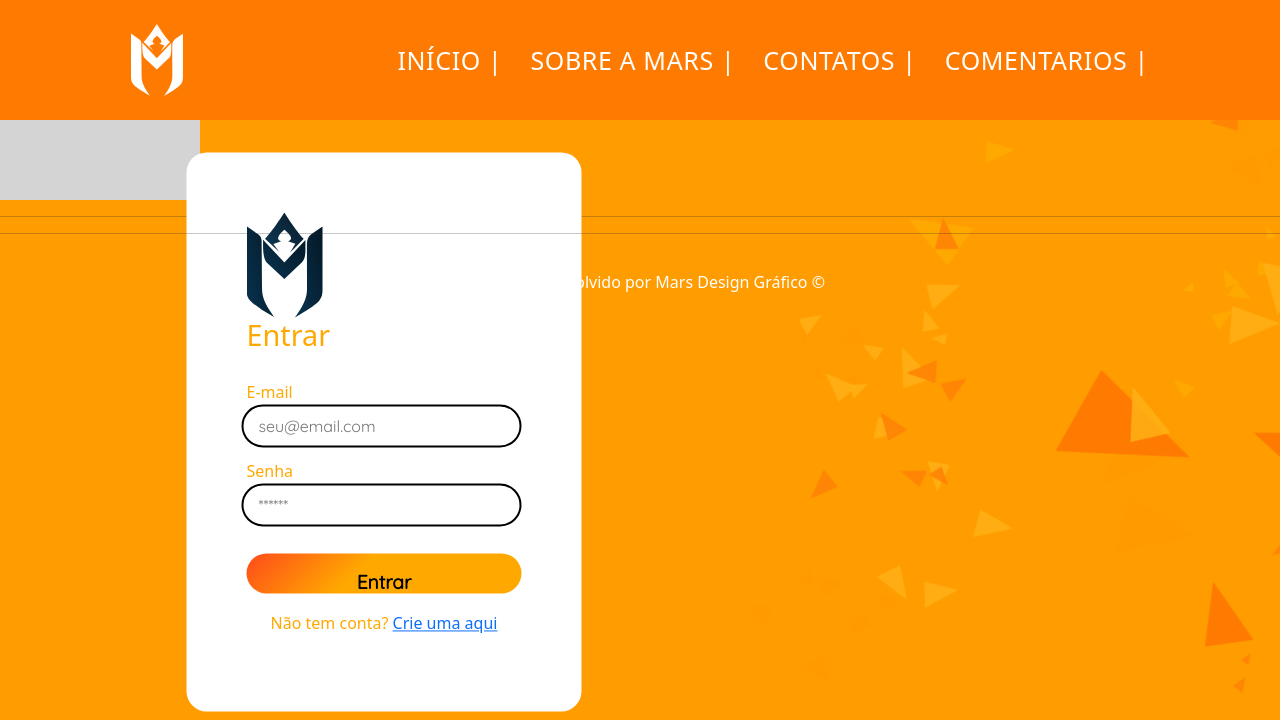
Scenario: Teste 1 — Login (Particionamento de Equivalência) › Classe inválida: login com senha errada exibe mensagem de erro
Type "admin@gmail.com" into the field with id "email" at (366, 427), box [259,415,472,439]
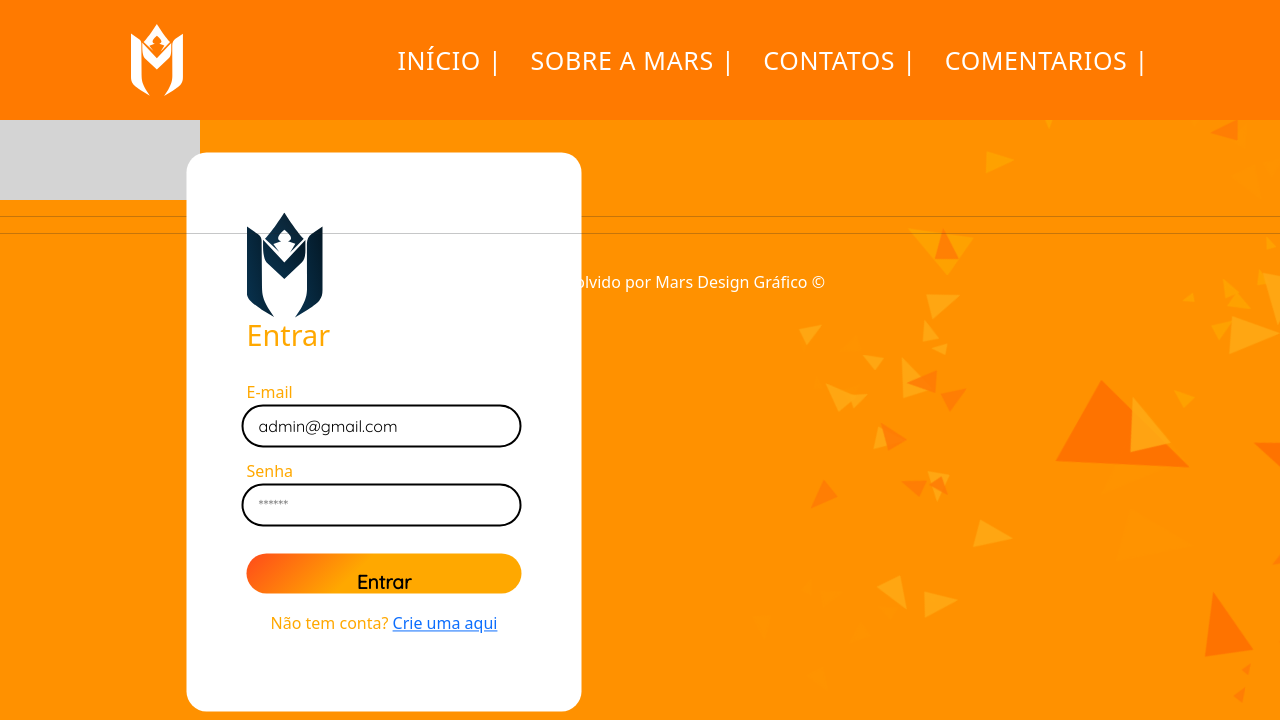
Type "senha-errada-invalida" into the password field with id "senha" at (366, 505), box [259,493,472,517]
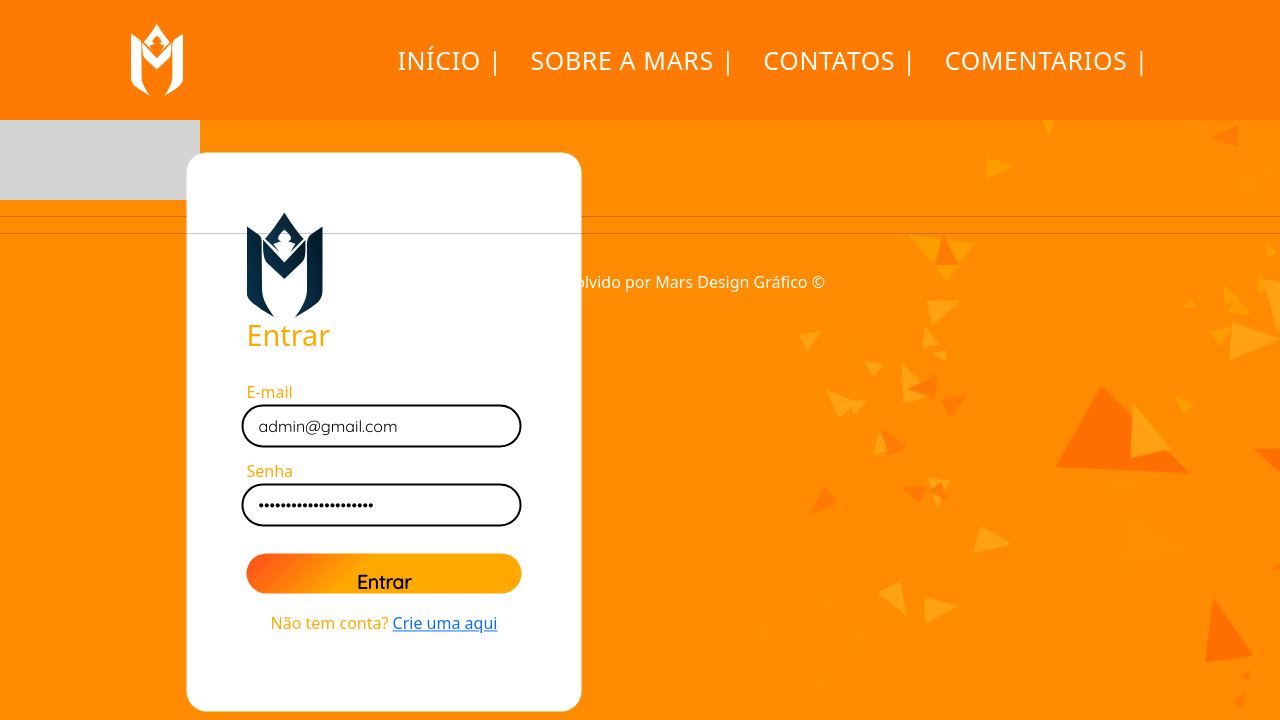
Click the submit button at (385, 574), box [247,554,522,594]
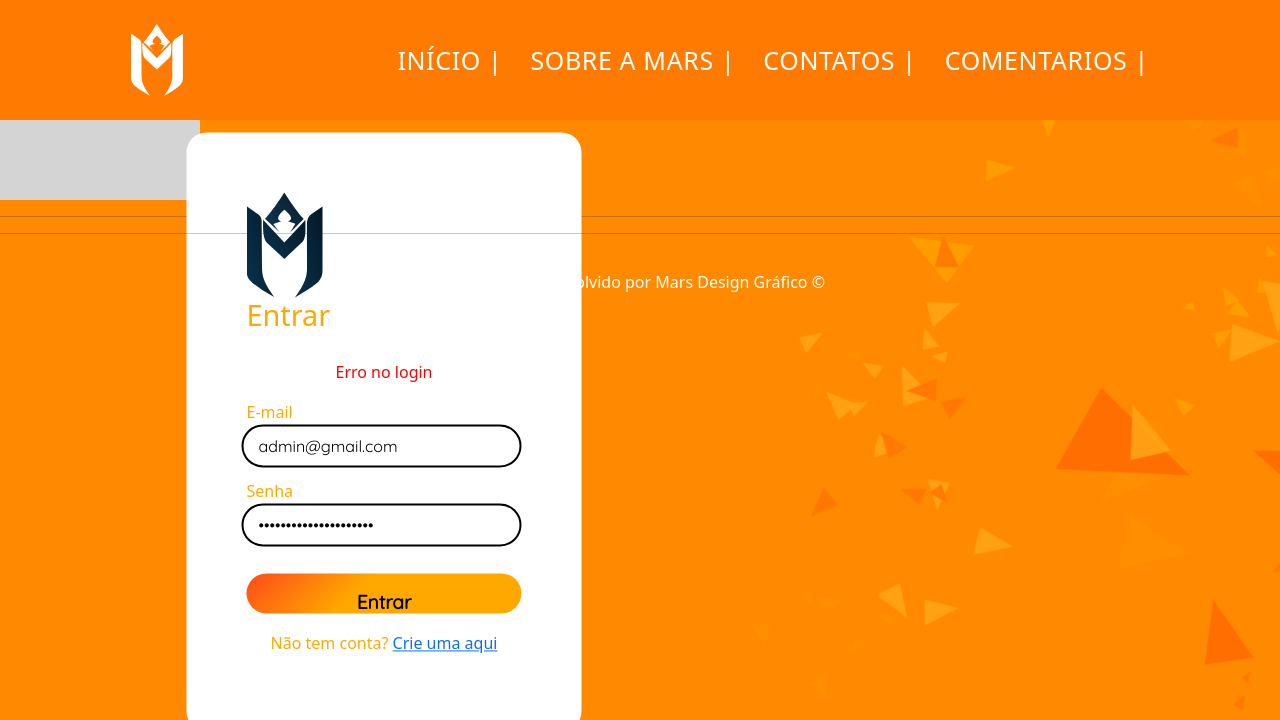
Now the text "Erro no login" is shown, box [336,362,432,384]
